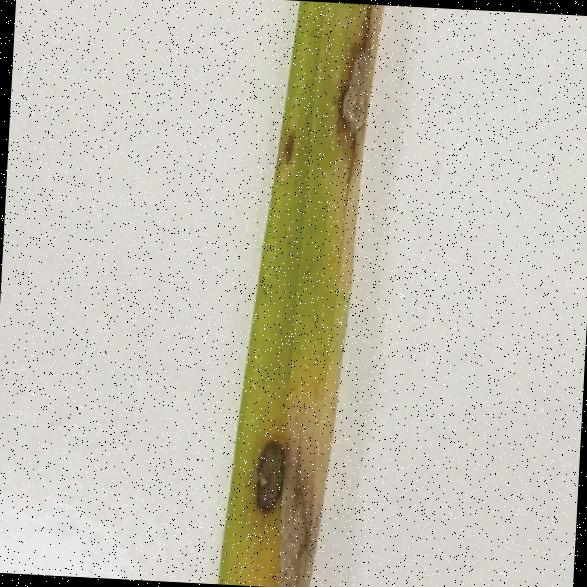Leaf_smut: (238, 391, 315, 538), (330, 9, 393, 183), (272, 118, 300, 170)
